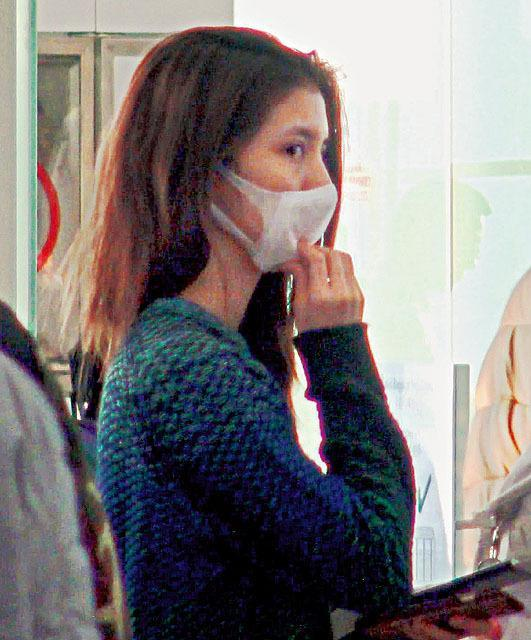face_mask: (221, 72, 336, 273)
